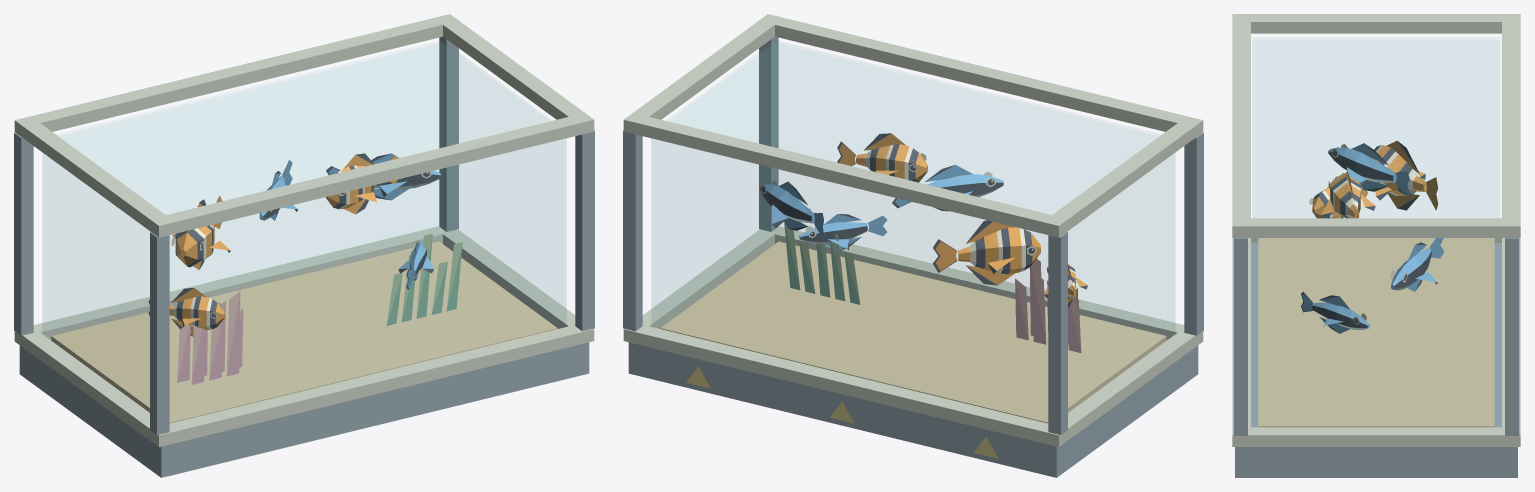
Rendered from lobby_reef.glb.
3 renders of one model, left to right at view 1: azimuth 30°, elevation 25°; view 2: azimuth 150°, elevation 25°; view 3: azimuth 270°, elevation 25°, orthographic.
Visible parts, largest first — view 1: Hylian_Reef_Aquarium, Water panes, Clownfish_01, Clownfish_00, Clownfish_02, CleanerWrasse_03, CleanerWrasse_05; view 2: Hylian_Reef_Aquarium, Water panes, Clownfish_00, Clownfish_02, CleanerWrasse_03, CleanerWrasse_05, CleanerWrasse_04; view 3: Hylian_Reef_Aquarium, Water panes, CleanerWrasse_04, Clownfish_00, CleanerWrasse_03, CleanerWrasse_05, Clownfish_02, Clownfish_01.
Part boxes in pixels (x1,y1,x2,y2): Hylian_Reef_Aquarium: [14, 14, 594, 477]; Water panes: [43, 43, 565, 331]; Clownfish_01: [148, 288, 224, 336]; Clownfish_00: [171, 195, 230, 269]; Clownfish_02: [325, 153, 397, 214]; CleanerWrasse_03: [326, 153, 440, 200]; CleanerWrasse_05: [398, 239, 434, 289]; Hylian_Reef_Aquarium: [623, 14, 1203, 477]; Water panes: [652, 43, 1174, 331]; Clownfish_00: [933, 220, 1040, 285]; Clownfish_02: [837, 133, 927, 182]; CleanerWrasse_03: [759, 181, 823, 238]; CleanerWrasse_05: [799, 214, 887, 250]; CleanerWrasse_04: [892, 164, 1003, 211]; Hylian_Reef_Aquarium: [1232, 14, 1520, 477]; Water panes: [1253, 40, 1499, 217]; CleanerWrasse_04: [1328, 143, 1409, 196]; Clownfish_00: [1371, 140, 1438, 210]; CleanerWrasse_03: [1390, 238, 1444, 291]; CleanerWrasse_05: [1301, 291, 1369, 333]; Clownfish_02: [1321, 171, 1375, 218]; Clownfish_01: [1309, 176, 1367, 218].
Bounding box in the file's own units: 3.5 × 1.94 × 2.
